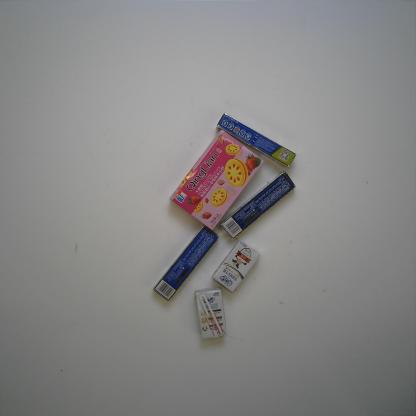Dessert: (169, 128, 264, 232)
Milk: (212, 239, 260, 295), (192, 286, 228, 341)
Personal Hygiene: (218, 170, 296, 244), (150, 223, 221, 303), (216, 111, 298, 168)
